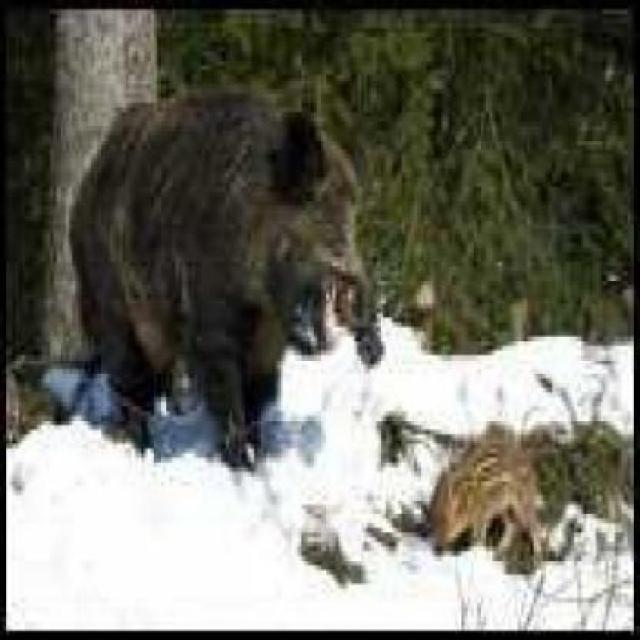pig: (76, 60, 364, 490), (429, 440, 559, 582)
